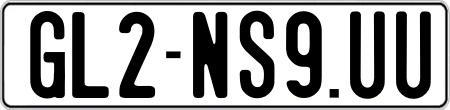2: (118, 12, 156, 103)
9: (283, 11, 322, 103)
G: (27, 11, 65, 103)
L: (71, 12, 113, 99)
N: (193, 10, 233, 96)
S: (239, 9, 276, 99)
U: (395, 8, 432, 97), (349, 8, 384, 101)
